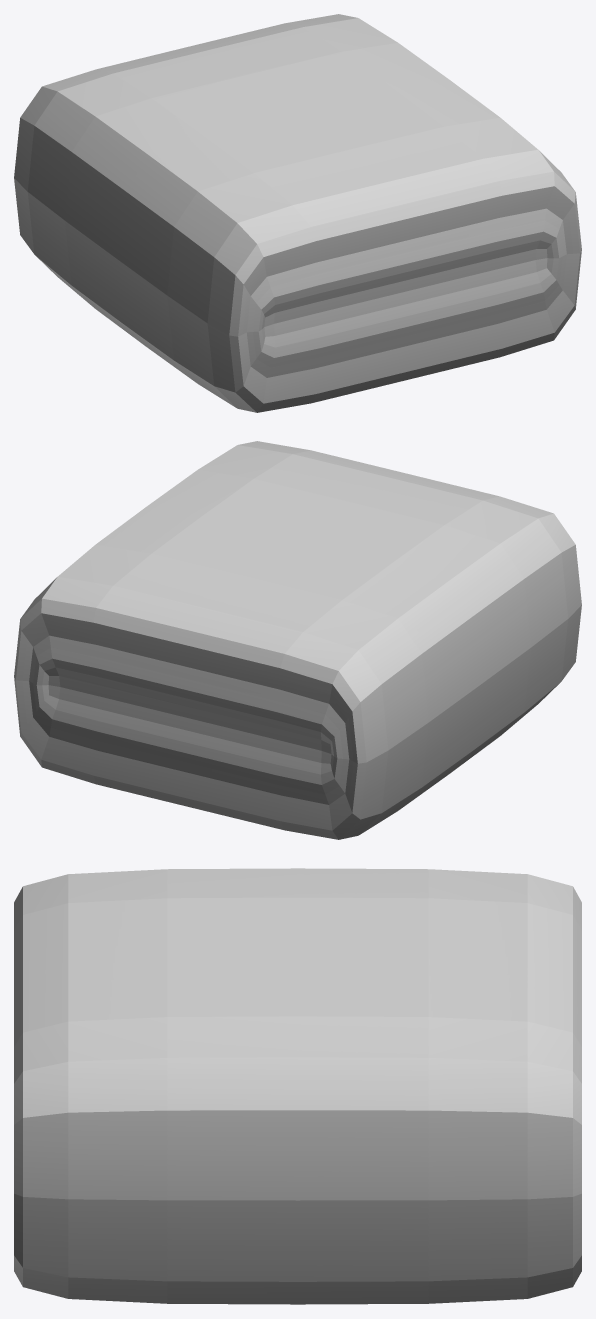
The model's file is Clothes4_C1.fbx.
The picture shows the model from 3 angles, top to bottom: view 1: azimuth 30°, elevation 25°; view 2: azimuth 150°, elevation 25°; view 3: azimuth 270°, elevation 25°; orthographic projection. The views are drawn at different scales.
Parts seen in each view (by area): view 1: Clothes4_C1; view 2: Clothes4_C1; view 3: Clothes4_C1.
Boxes of the visible parts, x1,y1,x2,y2 form: Clothes4_C1: (14, 14, 581, 412); Clothes4_C1: (14, 441, 581, 839); Clothes4_C1: (14, 868, 581, 1304).
Size of the model in its own units: 22.53 by 11.96 by 23.8.
